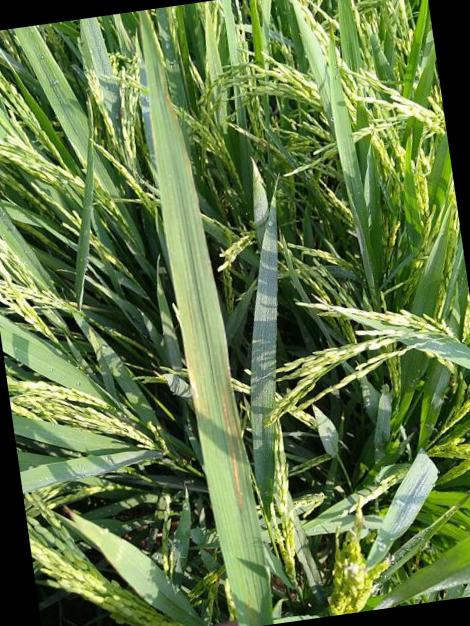Leaf Streak: (137, 9, 274, 626)
